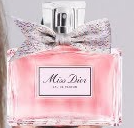dior_miss_dior: (4, 1, 123, 127)
